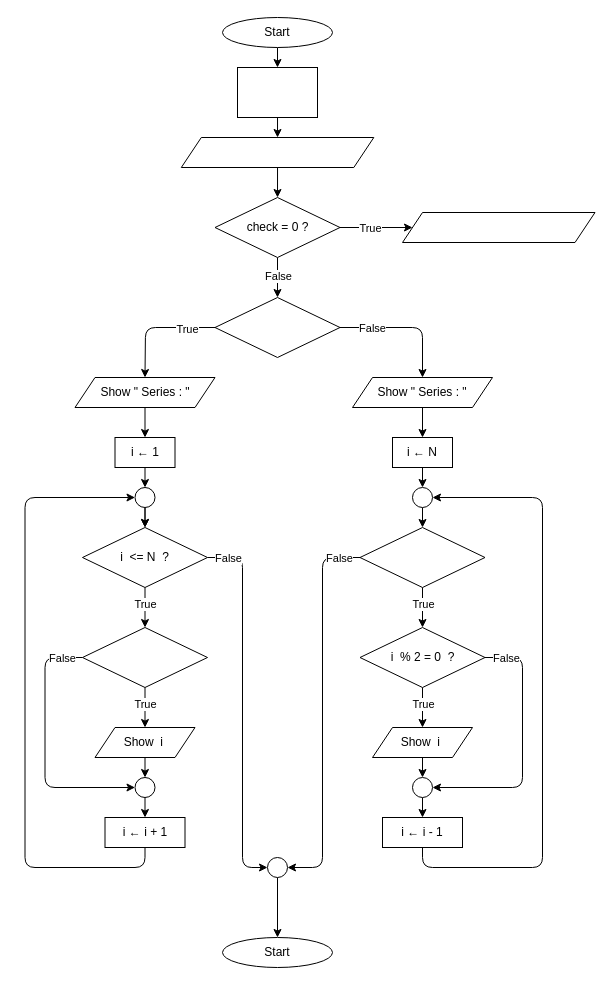
Some shapes in this 612 by 985 pixel diagram are drawn without their labels. Here are the shapes that lost their labels. From the top down, the centre of each, then its label:
(277,92): N ← 0 i ← 0 check ←1
(277,152): check ← Input "N" (เป็น %d)
(498,227): Show " Invalid input "
(277,327): N % 2 ≠ 0 ?
(422,557): i >= 0 ?
(145,657): i % 2 ≠ 0 ?
